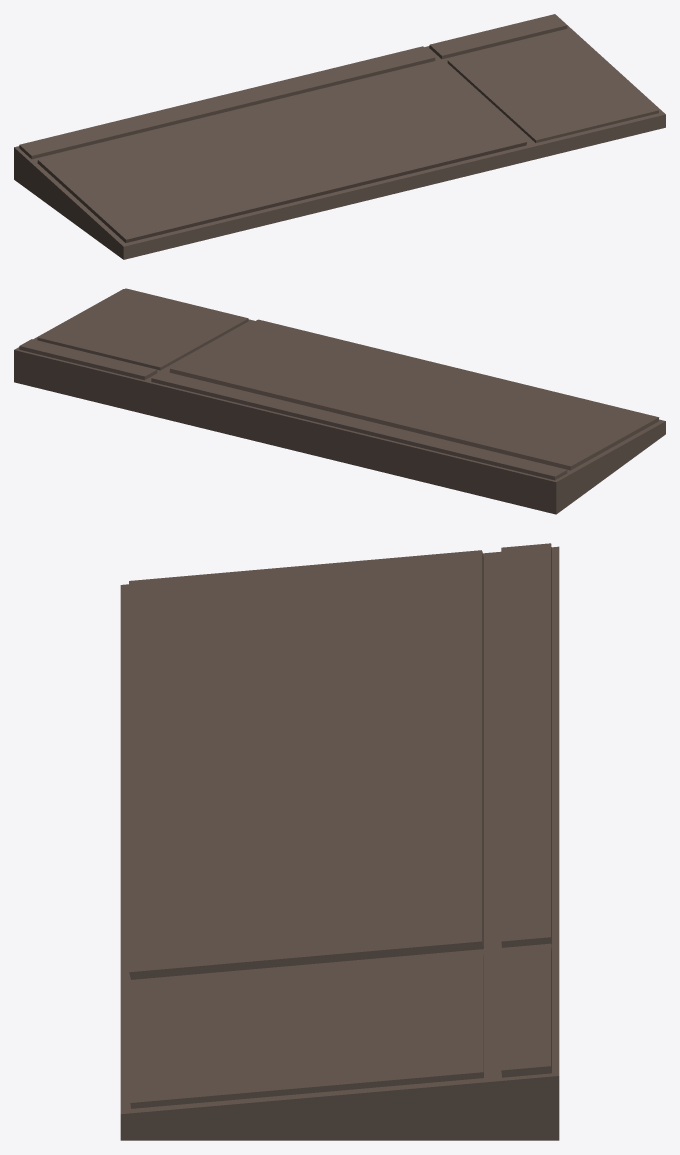
Rendered from Keyboard.fbx.glb.
The picture shows the model from 3 angles, top to bottom: view 1: azimuth 30°, elevation 25°; view 2: azimuth 150°, elevation 25°; view 3: azimuth 270°, elevation 25°; orthographic projection. The views are drawn at different scales.
Parts seen in each view (by area): view 1: Keyboard.1; view 2: Keyboard.1; view 3: Keyboard.1.
Boxes of the visible parts, left/top/right/bottom form: Keyboard.1: left=14, top=14, right=665, bottom=259; Keyboard.1: left=14, top=288, right=665, bottom=514; Keyboard.1: left=120, top=543, right=559, bottom=1140.
Size of the model in its own units: 40.11 by 2.52 by 14.06.
